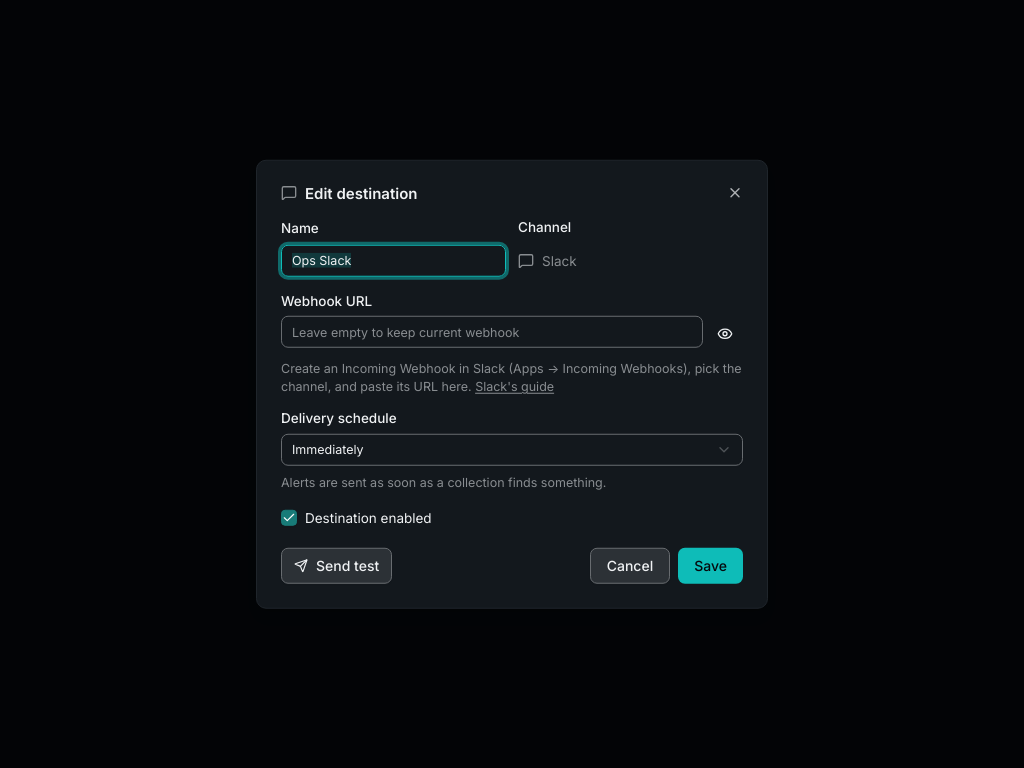
Test: DestinationDialog — Send test before saving › reads a refusal in plain words, with the raw error behind Details
Click the button "Send test" at (337, 565), box [281,547,392,583]
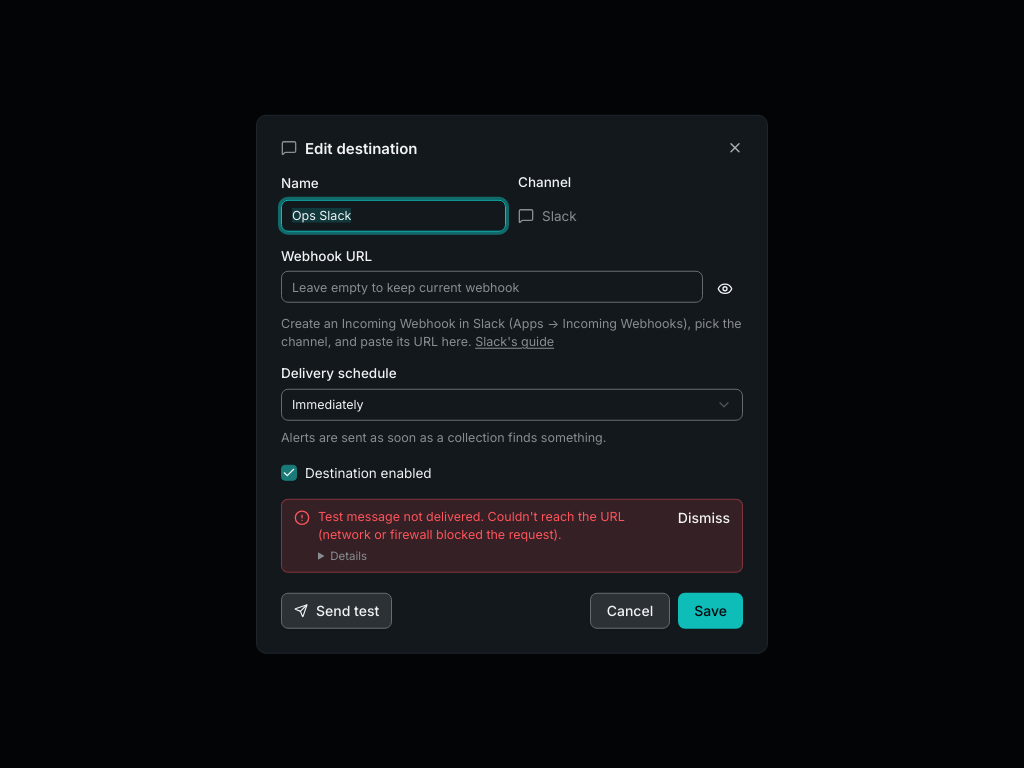
Check: the text "Test message not delivered. Couldn't reach the URL" is shown, box [318,508,625,541]
Check: the heading "Details" is shown, box [330,548,367,562]
